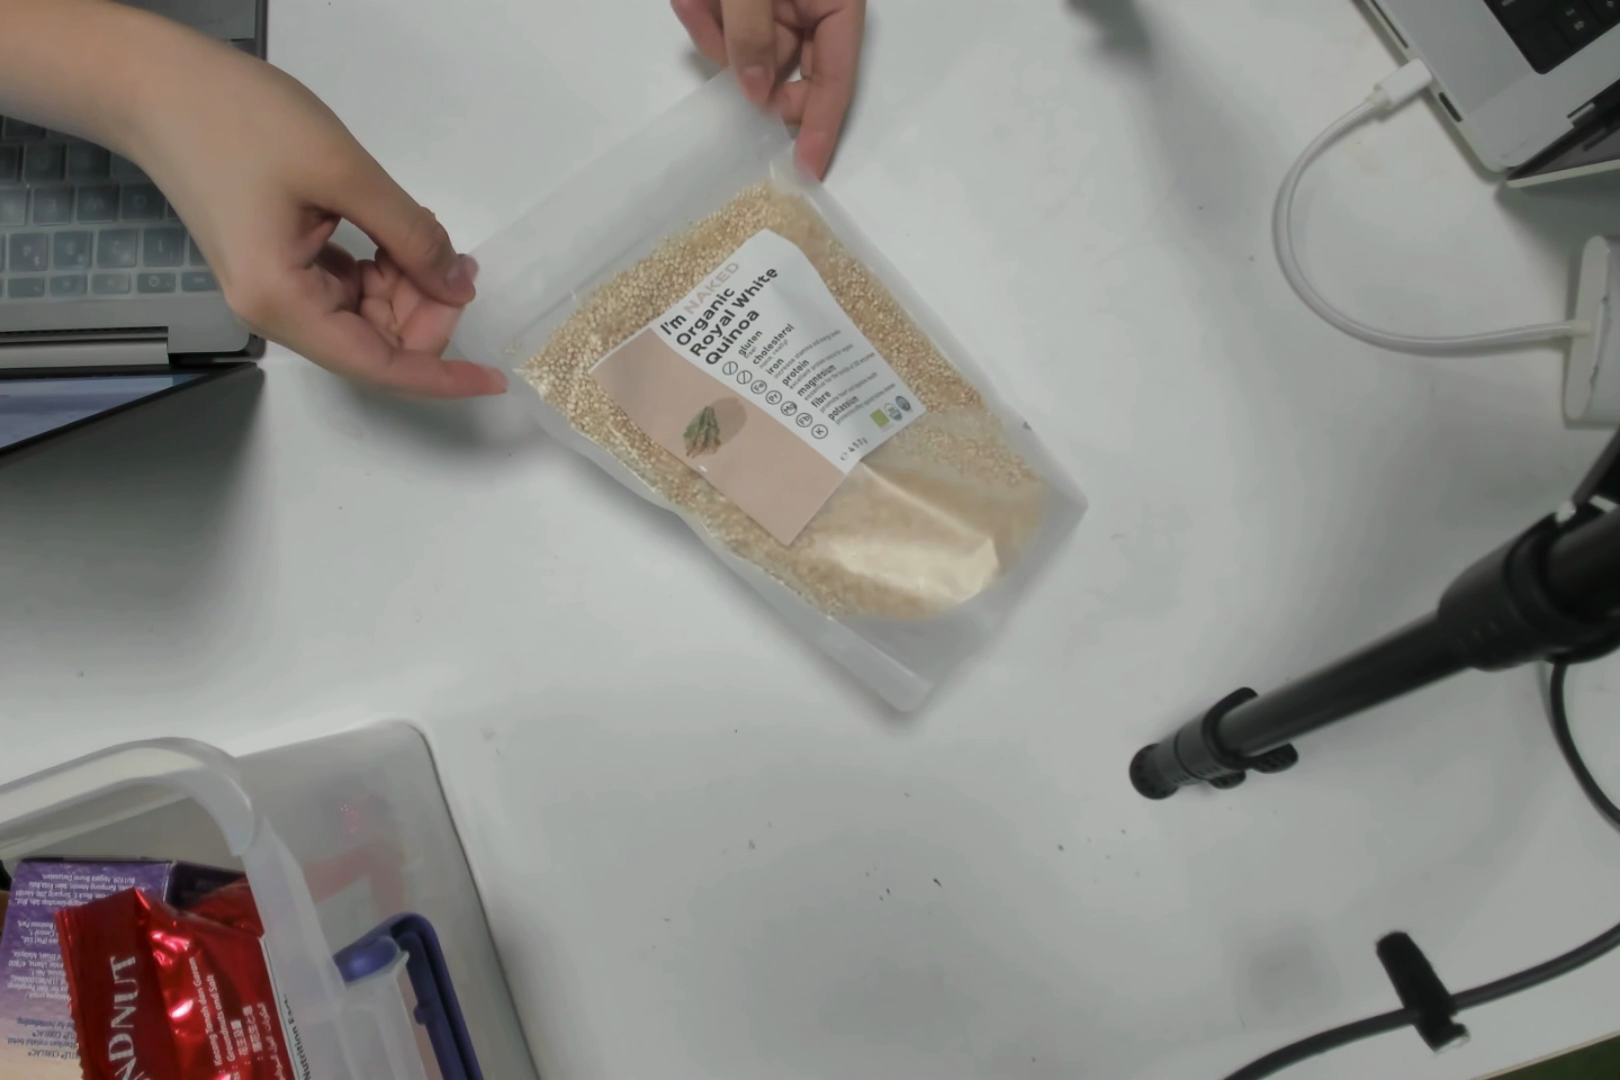Rice(brown-others)_400-499g_Halal_NonHealthy: (597, 213, 1020, 658)
